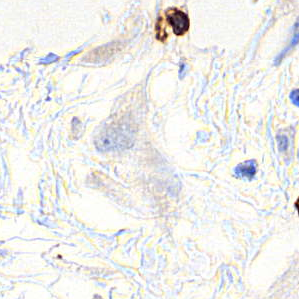Lymphocyte: (159, 1, 191, 38)
